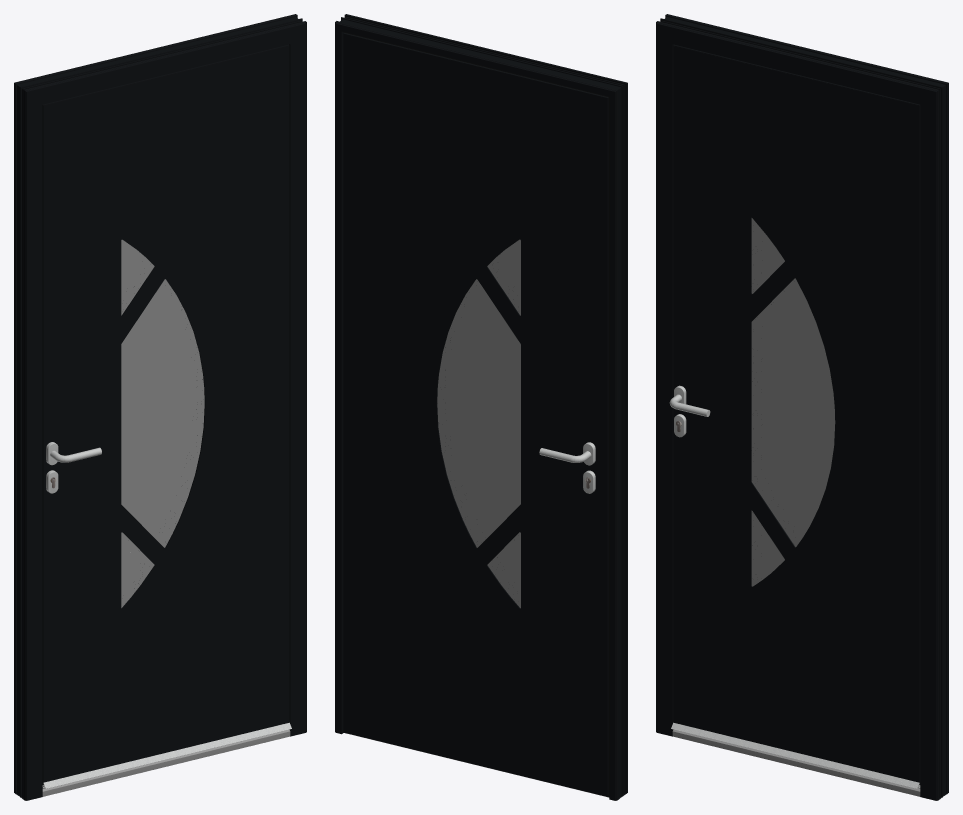
The picture shows the model from 3 angles, left to right: view 1: azimuth 30°, elevation 25°; view 2: azimuth 150°, elevation 25°; view 3: azimuth 330°, elevation 25°; orthographic projection.
Parts seen in each view (by area): view 1: bloco_12, aroFixo, Box001, aroMovel, rodapé, escovas, puxador001; view 2: bloco_12, aroFixo, Box001, aroMovel, puxador; view 3: bloco_12, aroFixo, Box001, aroMovel, rodapé, escovas, puxador001.
Boxes of the visible parts, x1,y1,x2,y2 form: bloco_12: [44, 46, 289, 782]; aroFixo: [14, 14, 306, 800]; Box001: [121, 239, 204, 607]; aroMovel: [42, 44, 289, 784]; rodapé: [42, 729, 290, 796]; escovas: [42, 722, 291, 788]; puxador001: [46, 442, 101, 493]; bloco_12: [343, 34, 607, 796]; aroFixo: [335, 14, 627, 800]; Box001: [437, 239, 520, 608]; aroMovel: [343, 32, 609, 796]; puxador: [539, 442, 595, 493]; bloco_12: [673, 46, 918, 782]; aroFixo: [656, 14, 948, 800]; Box001: [751, 218, 835, 586]; aroMovel: [673, 44, 920, 784]; rodapé: [672, 729, 920, 796]; escovas: [671, 722, 920, 788]; puxador001: [669, 385, 710, 437].
Size of the model in its own units: 900 by 2165 by 209.
Materials: 7 (2 with a texture image).
